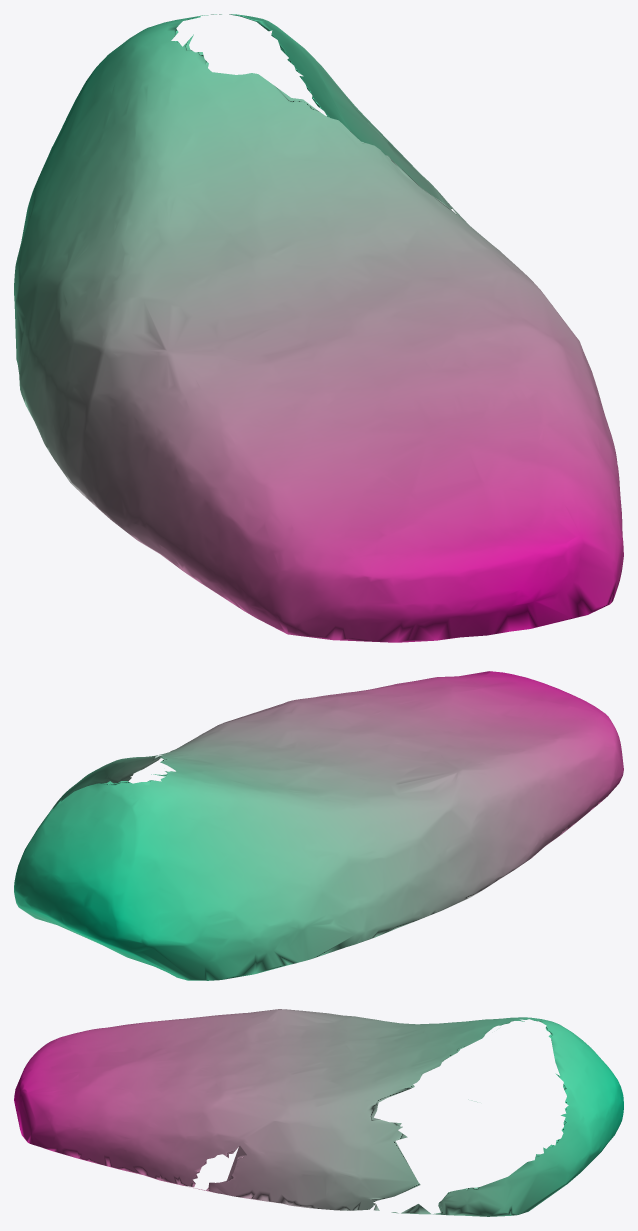
File: seat_only_clean.glb
The picture shows the model from 3 angles, top to bottom: view 1: azimuth 30°, elevation 25°; view 2: azimuth 150°, elevation 25°; view 3: azimuth 270°, elevation 25°; orthographic projection. The views are drawn at different scales.
Size of the model in its own units: 0.7831 by 0.3781 by 1.45.
